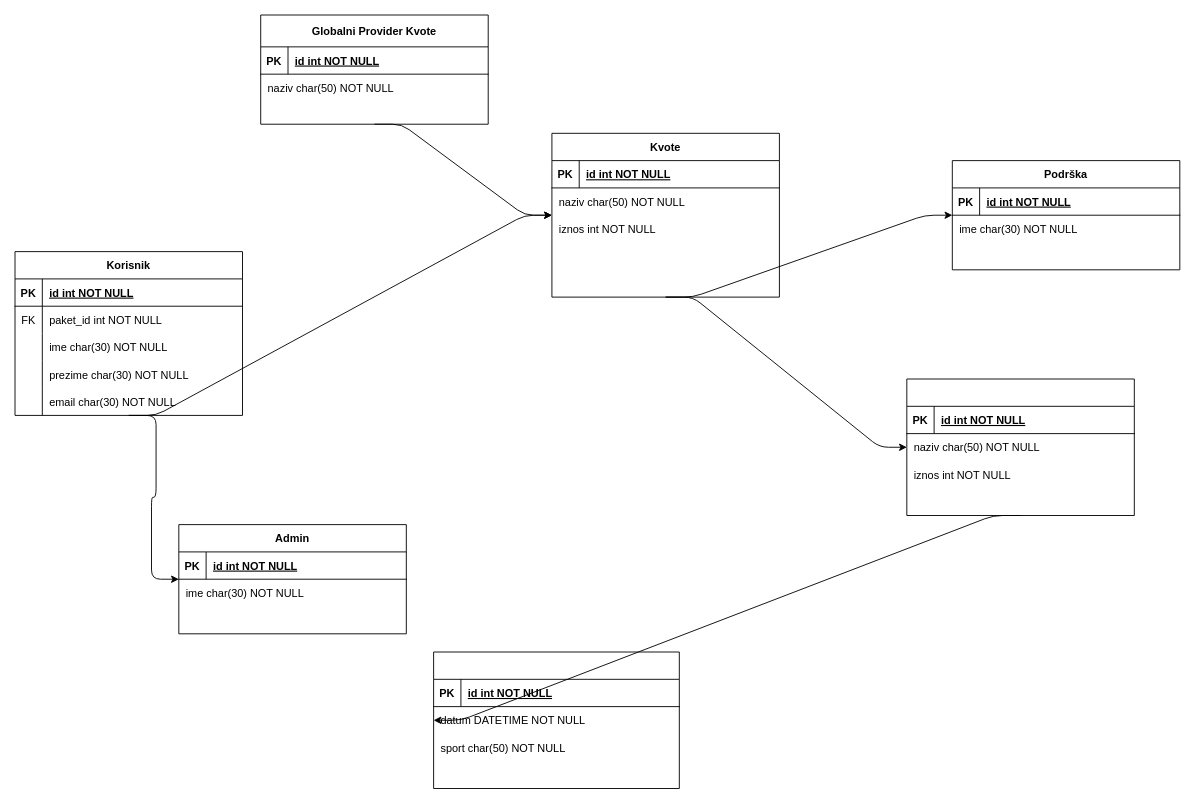
Image size: 1195x804. Some labels were removed from this diagram. Each missing label, with the box of its shape:
Oklade: (906, 378, 1134, 516)
Povijest oklada: (433, 651, 679, 789)
